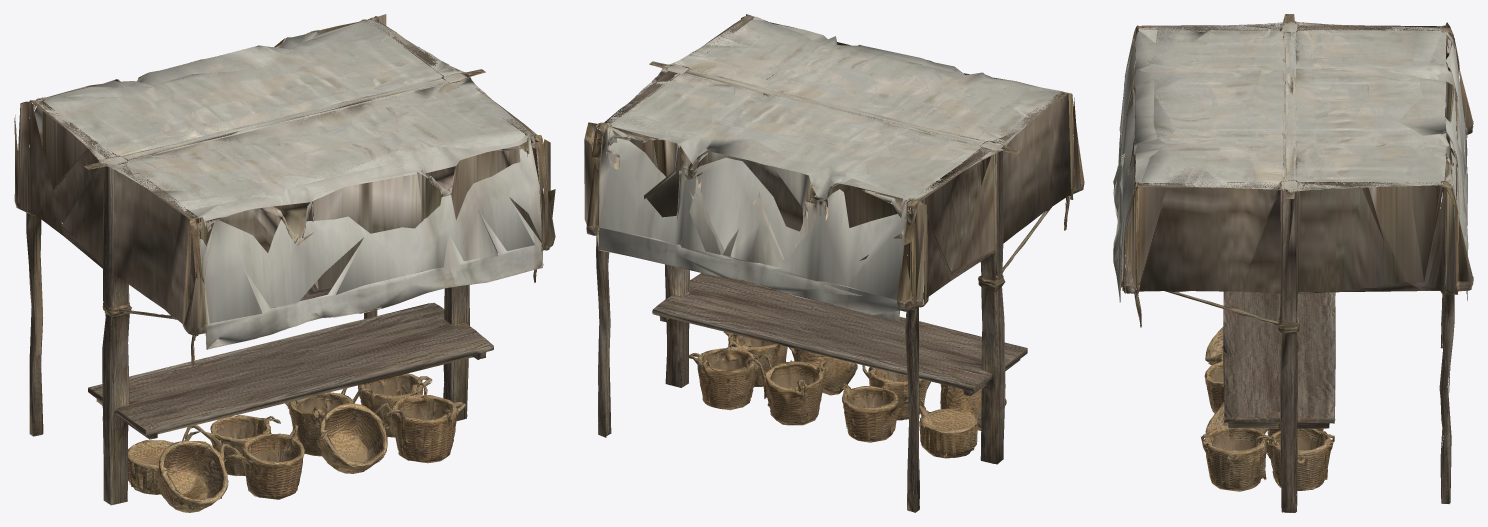
Rendered from market-awning.glb.
The picture shows the model from 3 angles, left to right: view 1: azimuth 30°, elevation 25°; view 2: azimuth 150°, elevation 25°; view 3: azimuth 270°, elevation 25°; orthographic projection. The views are drawn at different scales.
Parts seen in each view (by area): view 1: market-awning; view 2: market-awning; view 3: market-awning.
Boxes of the visible parts, left/top/right/bottom form: market-awning: left=14, top=14, right=555, bottom=512; market-awning: left=584, top=14, right=1084, bottom=512; market-awning: left=1113, top=14, right=1473, bottom=512.
Size of the model in its own units: 1.9 by 1.56 by 1.57.
Materials: 1 (1 with a texture image).
